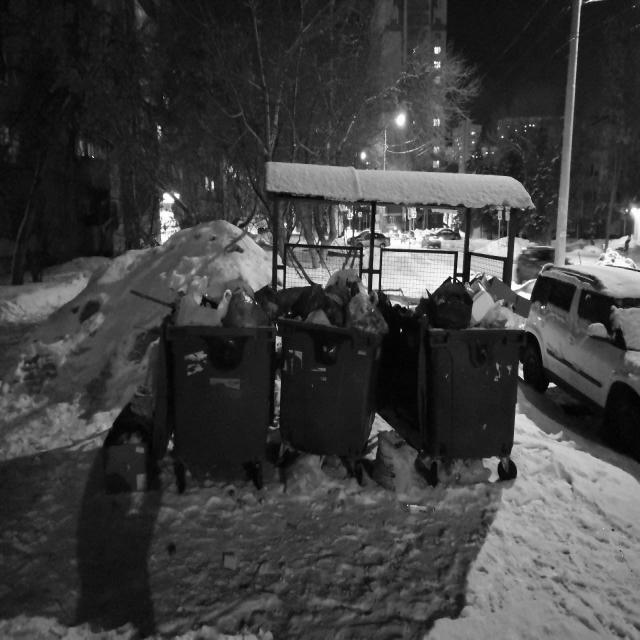bin: (380, 311, 517, 459), (167, 330, 274, 472), (285, 324, 381, 458)
trash: (279, 271, 386, 332), (414, 273, 531, 326), (172, 285, 277, 326)
